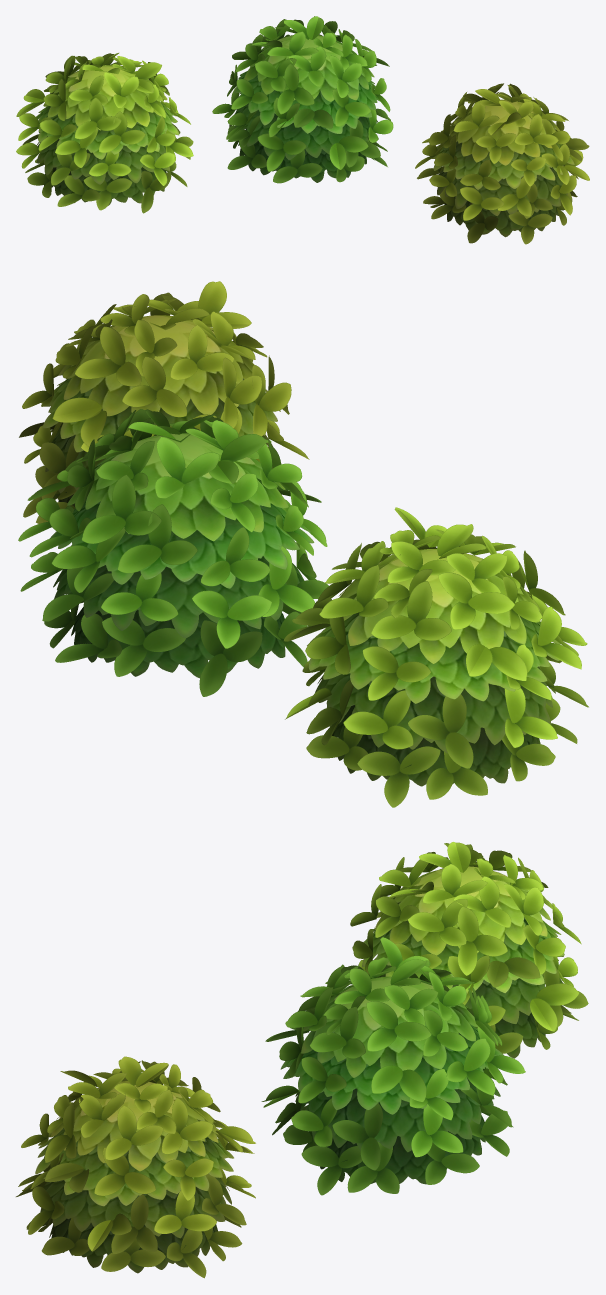
The model's file is bush.fbx.
3 views of the same model, one above another, from view 1: azimuth 30°, elevation 25°; view 2: azimuth 150°, elevation 25°; view 3: azimuth 270°, elevation 25° (orthographic). The views are drawn at different scales.
Visible parts, largest first — view 1: bush_002, bush_001, bush_003; view 2: bush_002, bush_001, bush_003; view 3: bush_002, bush_003, bush_001.
Part boxes in pixels (bbox=[...]): bush_002: bbox=[212, 16, 393, 183]; bush_001: bbox=[16, 53, 193, 213]; bush_003: bbox=[415, 83, 589, 244]; bush_002: bbox=[18, 409, 328, 696]; bush_001: bbox=[284, 507, 588, 807]; bush_003: bbox=[19, 281, 309, 523]; bush_002: bbox=[261, 937, 525, 1195]; bush_003: bbox=[16, 1056, 255, 1278]; bush_001: bbox=[350, 842, 588, 1058].
Bounding box in the file's own units: 348 × 116 × 284.
Materials: 3 (3 with a texture image).
